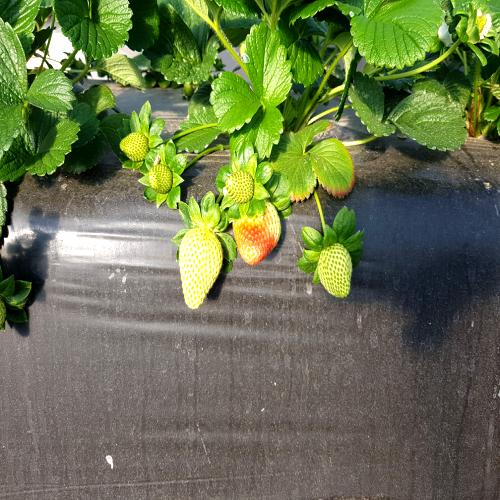partially-ripe: (232, 183, 284, 270)
unripe: (176, 227, 226, 315), (308, 241, 362, 302)
